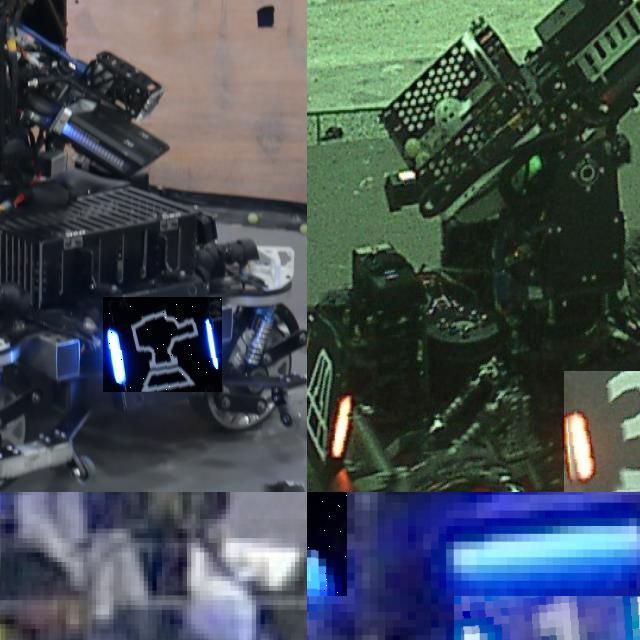B1: (453, 596, 640, 640), (307, 492, 347, 596)
Bs: (103, 297, 222, 392)
R3: (563, 371, 640, 492)
